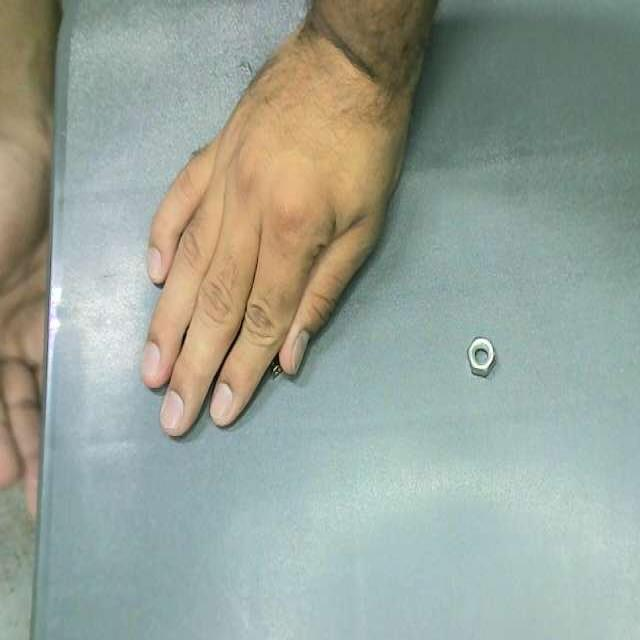Porca: (467, 338, 495, 377)
